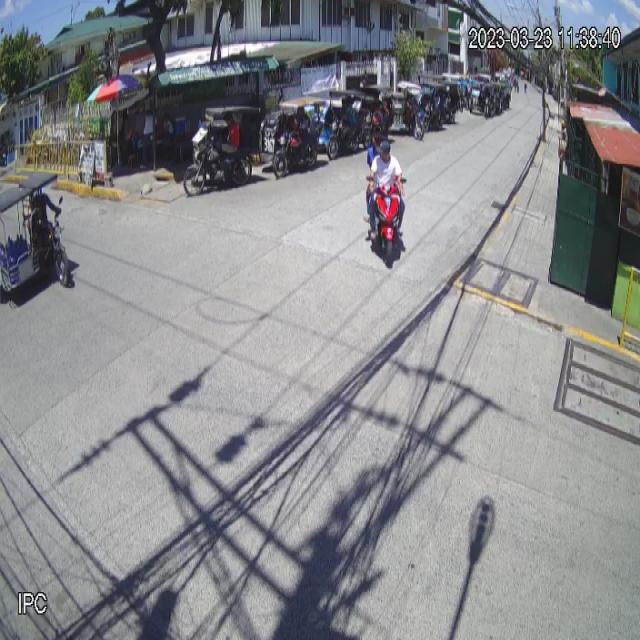Motorcycle: (365, 172, 405, 268)
